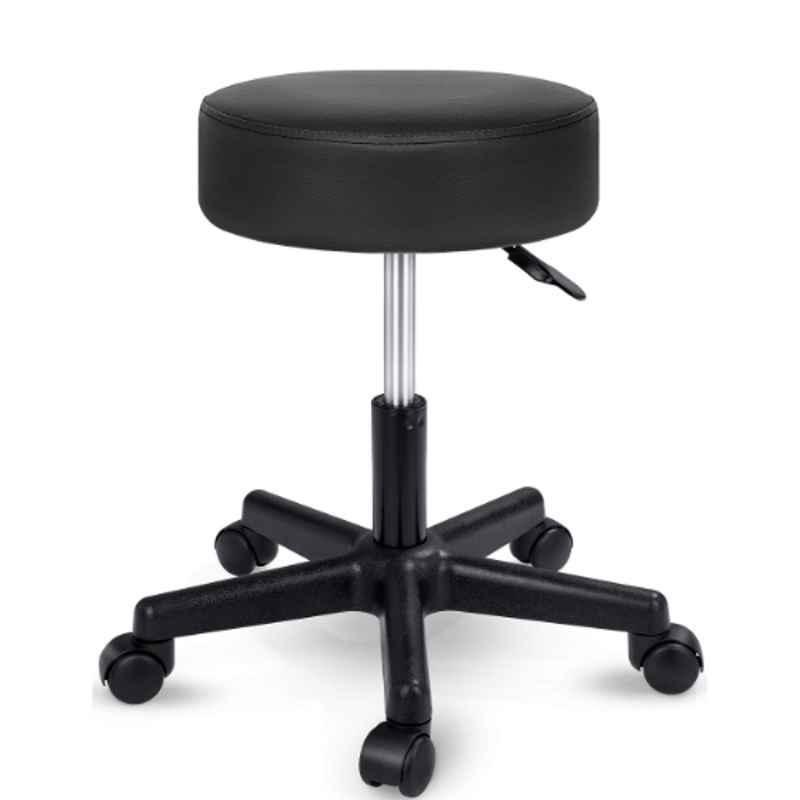stool: (97, 67, 703, 797)
